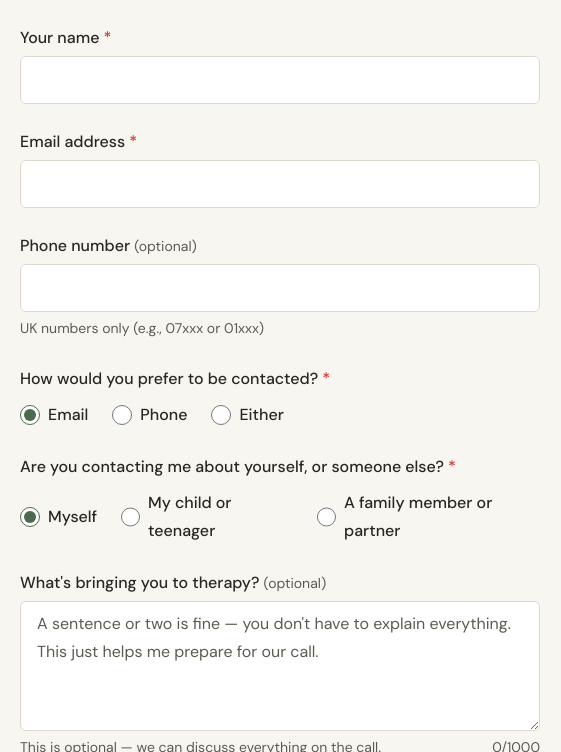
Test: ContactForm Component › Form Validation › shows error for invalid UK phone number
Type "John Doe" into the field labelled "Your name *" at (280, 80), box [20,56,540,104]
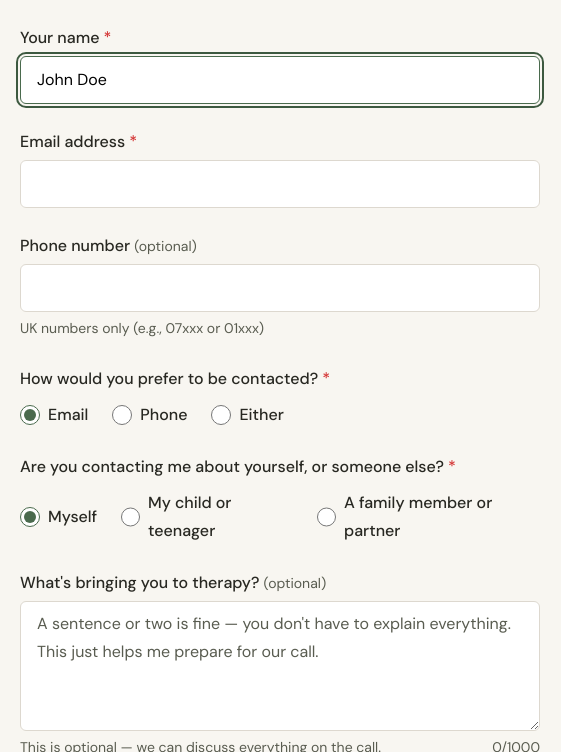
Type "john@example.com" into the field labelled "Email address *" at (280, 184), box [20,160,540,208]
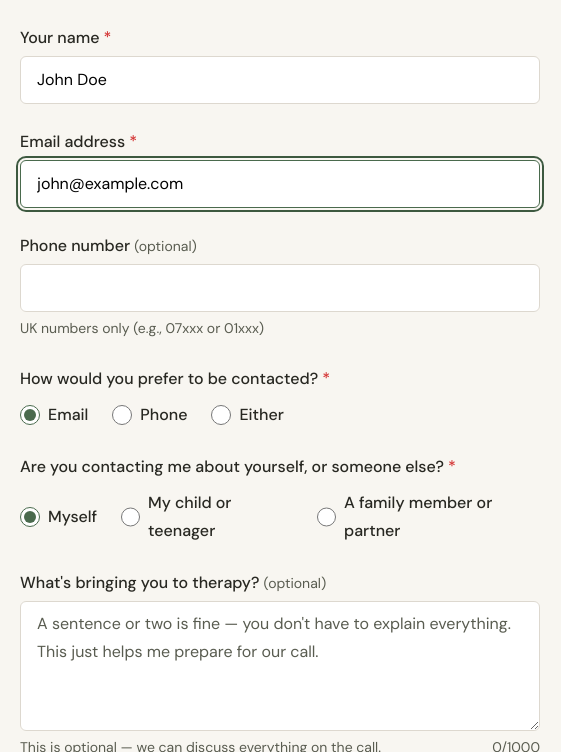
Type "123456" into the field labelled "Phone number (optional)" at (280, 288), box [20,264,540,312]
(page scrolled)
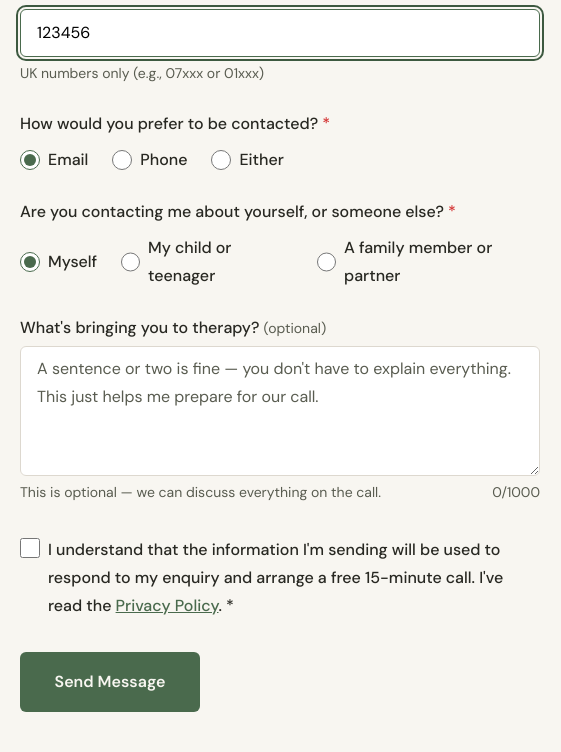
Click the checkbox at (30, 548), box [20,538,40,558]
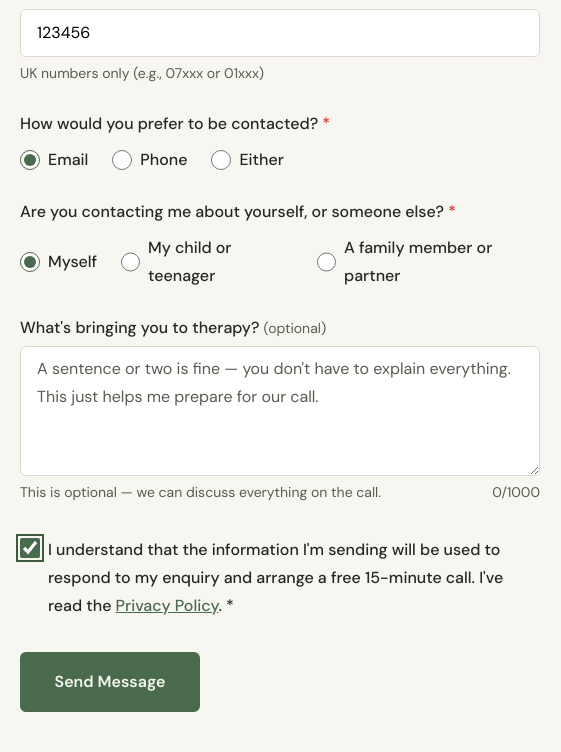
Click the button "Send Message" at (110, 682), box [20,652,200,712]
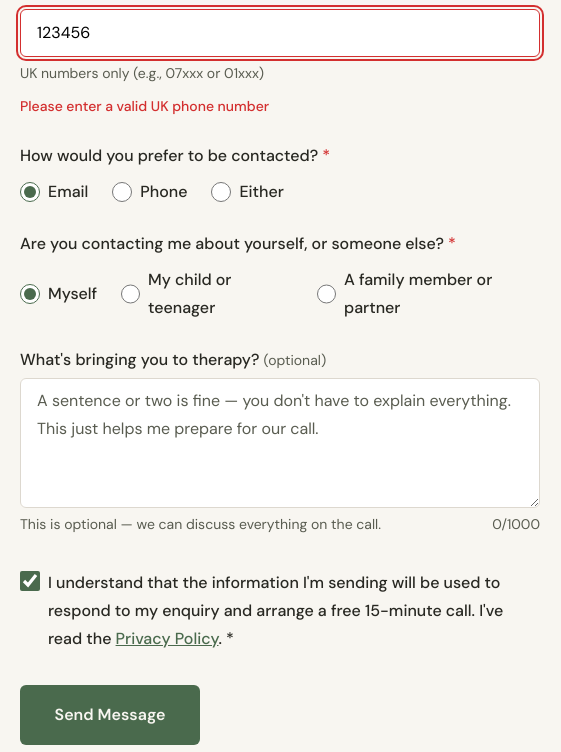
Check: the text "Please enter a valid UK phone number" is shown, box [20,96,269,114]
